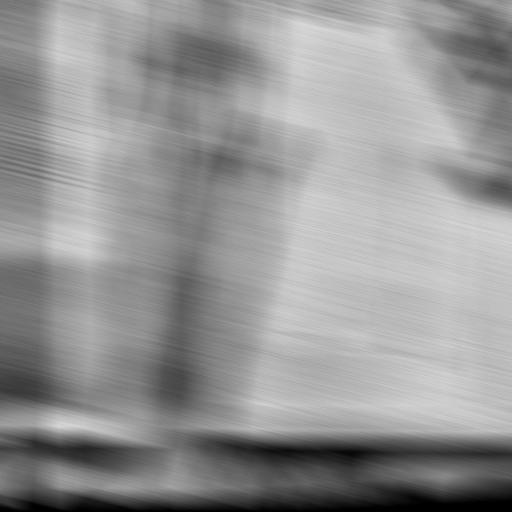bottom_left: (473, 405, 505, 427)
bottom_right: (77, 396, 109, 419)
envelop: (142, 0, 449, 363)
